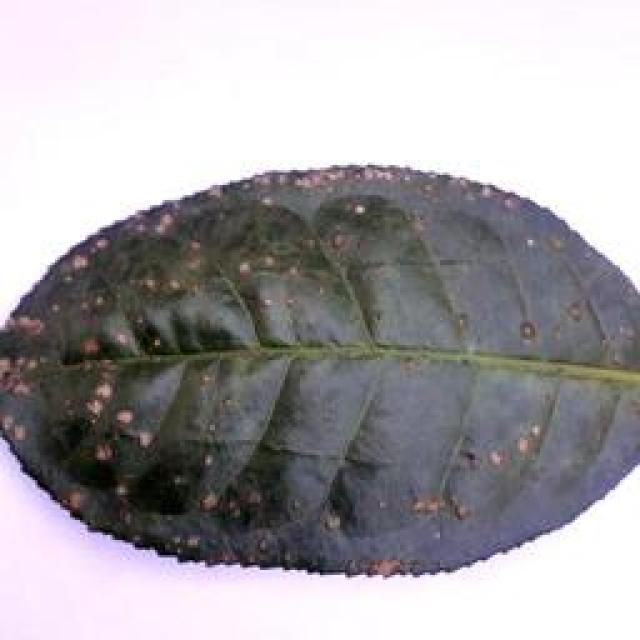Algal Leaf Spot: (2, 155, 640, 585)
